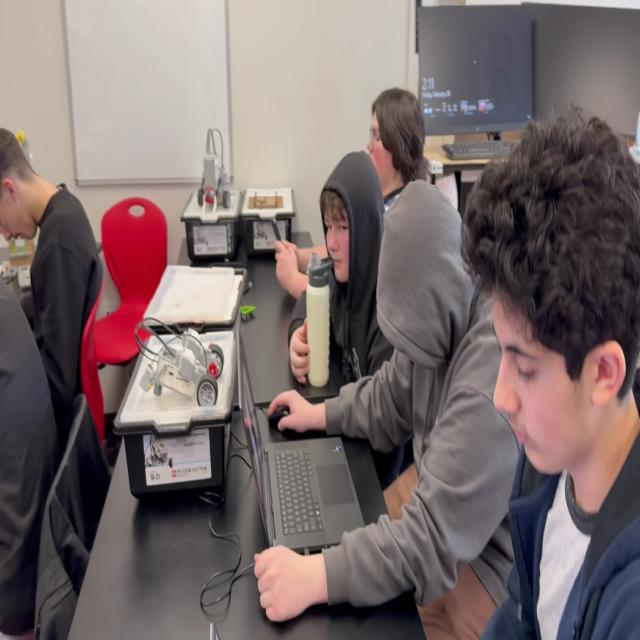pen: (271, 215, 288, 265)
